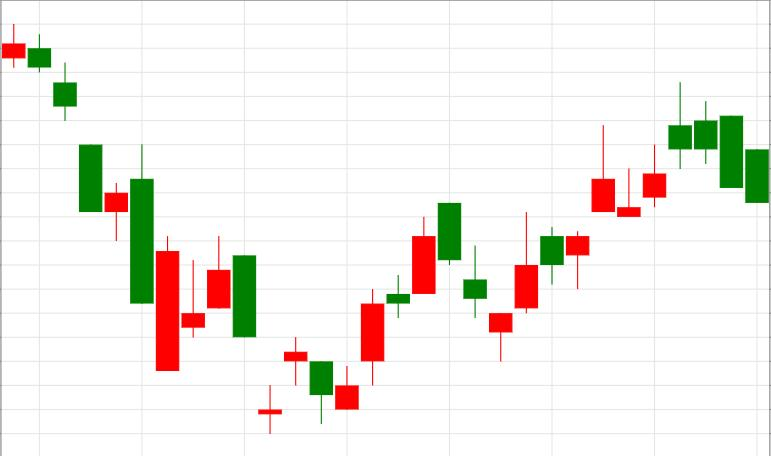shooting_star_fall: (489, 126, 615, 362)
